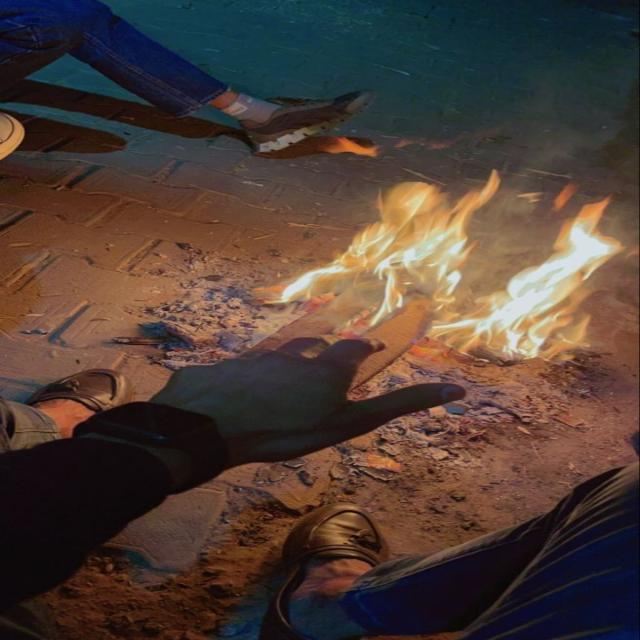fire: (275, 169, 498, 331), (431, 196, 619, 362)
